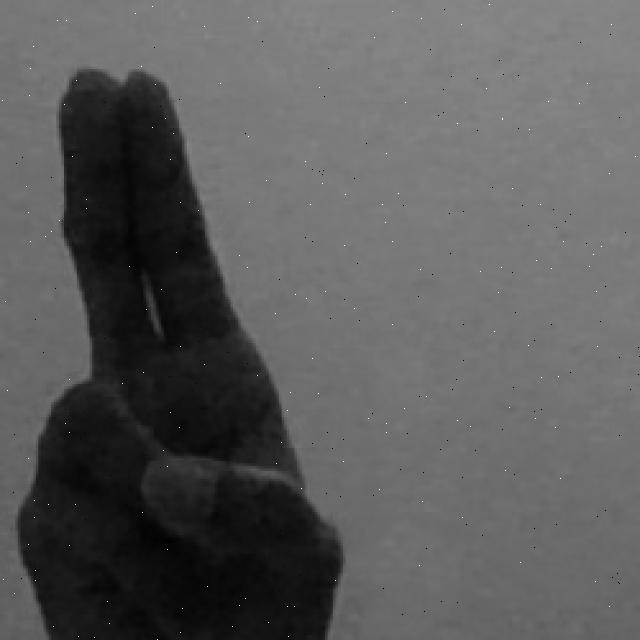U: (14, 58, 349, 640)
